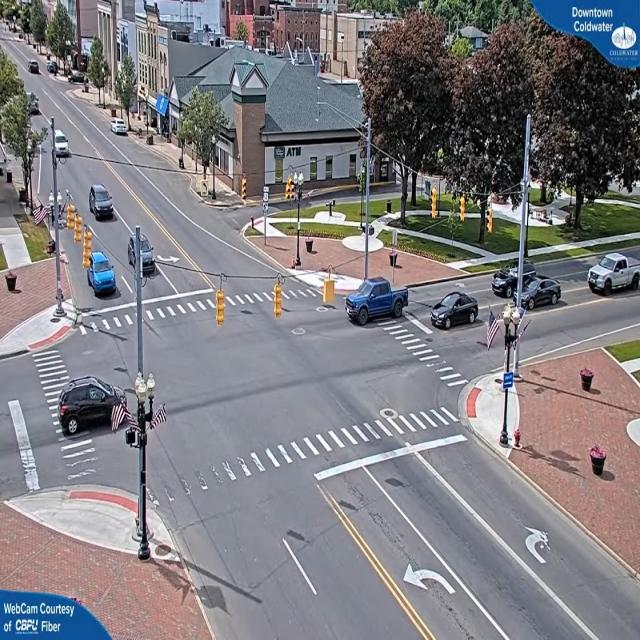car: (59, 370, 130, 438), (345, 277, 403, 325), (586, 253, 640, 297), (428, 290, 481, 332), (86, 250, 119, 296), (494, 259, 534, 291), (126, 238, 157, 279), (530, 276, 562, 308), (88, 184, 115, 219), (52, 128, 71, 160), (28, 61, 41, 74)
